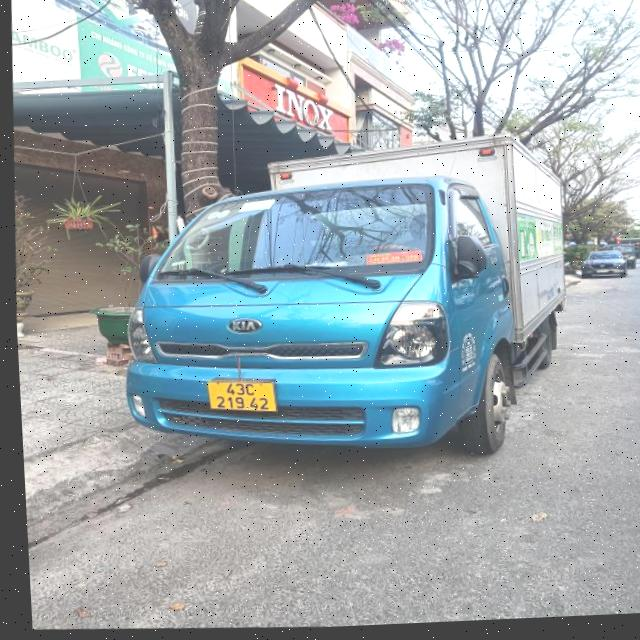car: (102, 143, 581, 484), (582, 239, 632, 281), (638, 234, 640, 267)
plate: (201, 366, 282, 421)
